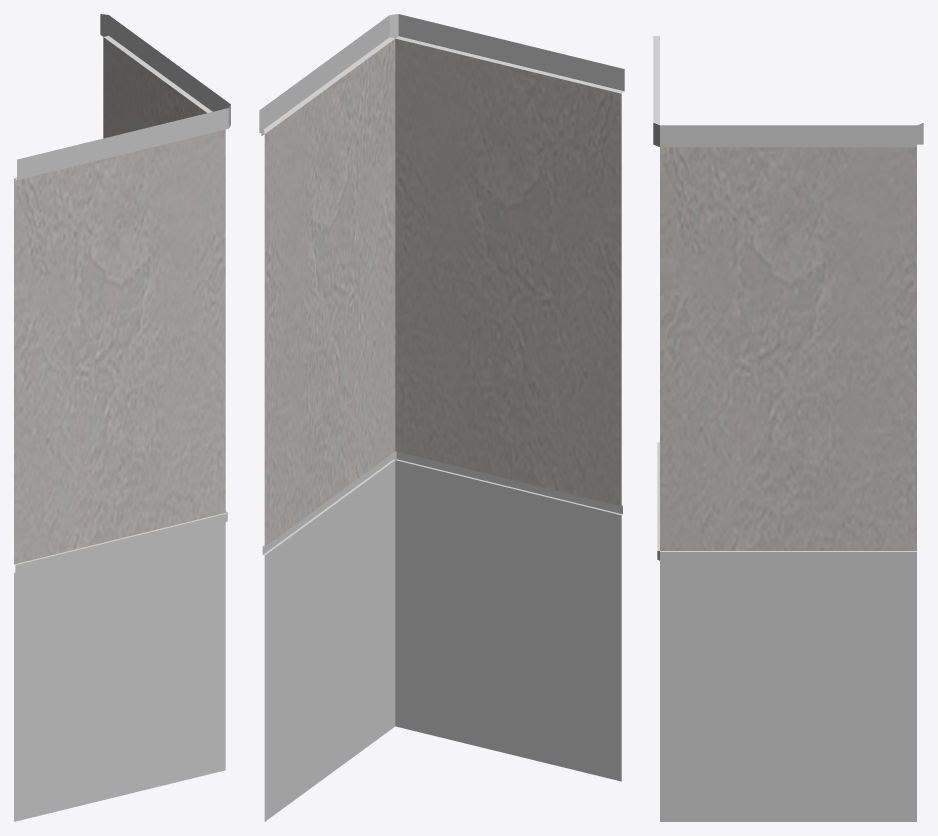
The model's file is Wall_pillar2.fbx.
3 renders of one model, left to right at view 1: azimuth 30°, elevation 25°; view 2: azimuth 150°, elevation 25°; view 3: azimuth 270°, elevation 25°, orthographic. The views are drawn at different scales.
Visible parts, largest first — view 1: Wall.002; view 2: Wall.002; view 3: Wall.002.
Boxes of the visible parts, x1,y1,x2,y2 form: Wall.002: (14,14,230,821); Wall.002: (259,14,624,821); Wall.002: (653,36,923,821).
Bounding box in the file's own units: 103 × 300 × 105.
